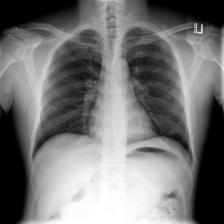normal: (29, 26, 195, 167)
